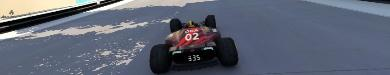Car: (148, 14, 238, 73)
